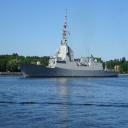Fragata: (15, 9, 121, 79)
